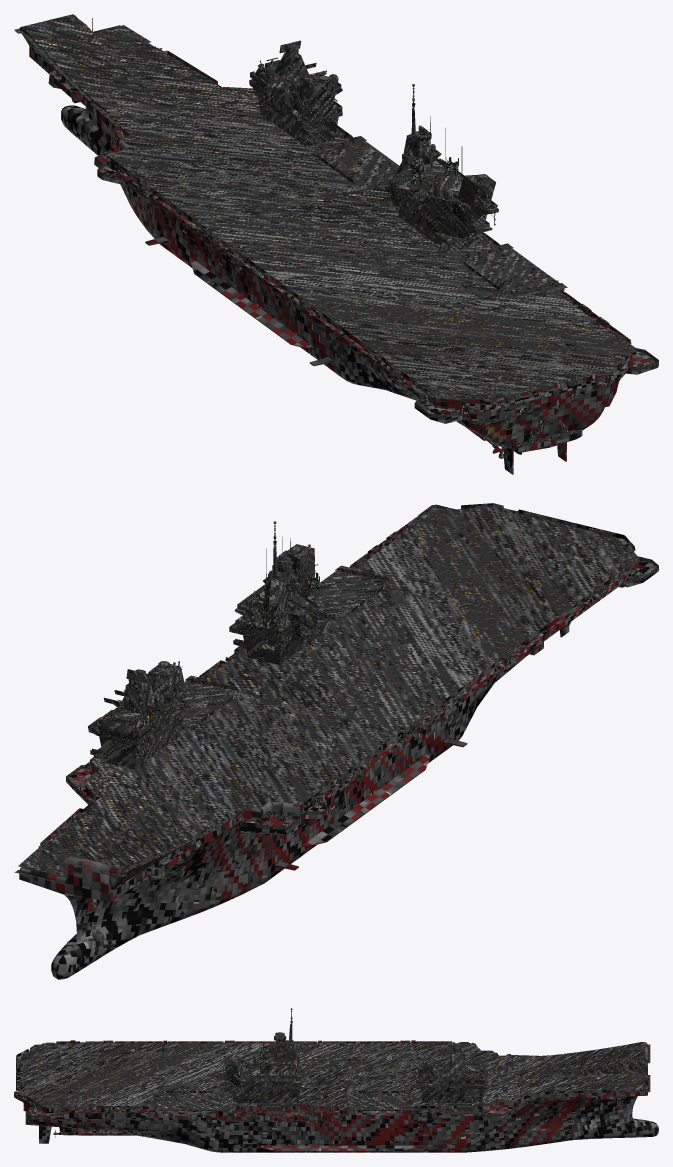
File: hms-queen-elizabeth.glb
3 renders of one model, top to bottom at view 1: azimuth 30°, elevation 25°; view 2: azimuth 150°, elevation 25°; view 3: azimuth 270°, elevation 25°, orthographic. The views are drawn at different scales.
Parts seen in each view (by area): view 1: _gltfNode_1, _gltfNode_0, _gltfNode_2; view 2: _gltfNode_1, _gltfNode_0, _gltfNode_2; view 3: _gltfNode_1, _gltfNode_0, _gltfNode_2.
Boxes of the visible parts, x1,y1,x2,y2 form: _gltfNode_1: (19,14,632,403); _gltfNode_0: (29,18,658,474); _gltfNode_2: (14,19,658,447); _gltfNode_1: (22,507,636,890); _gltfNode_0: (19,503,658,979); _gltfNode_2: (14,504,658,885); _gltfNode_1: (19,1008,647,1116); _gltfNode_0: (14,1040,658,1152); _gltfNode_2: (14,1020,650,1122).
Bounding box in the file's own units: 90.22 × 86.47 × 339.
3 materials, 3 textured.
